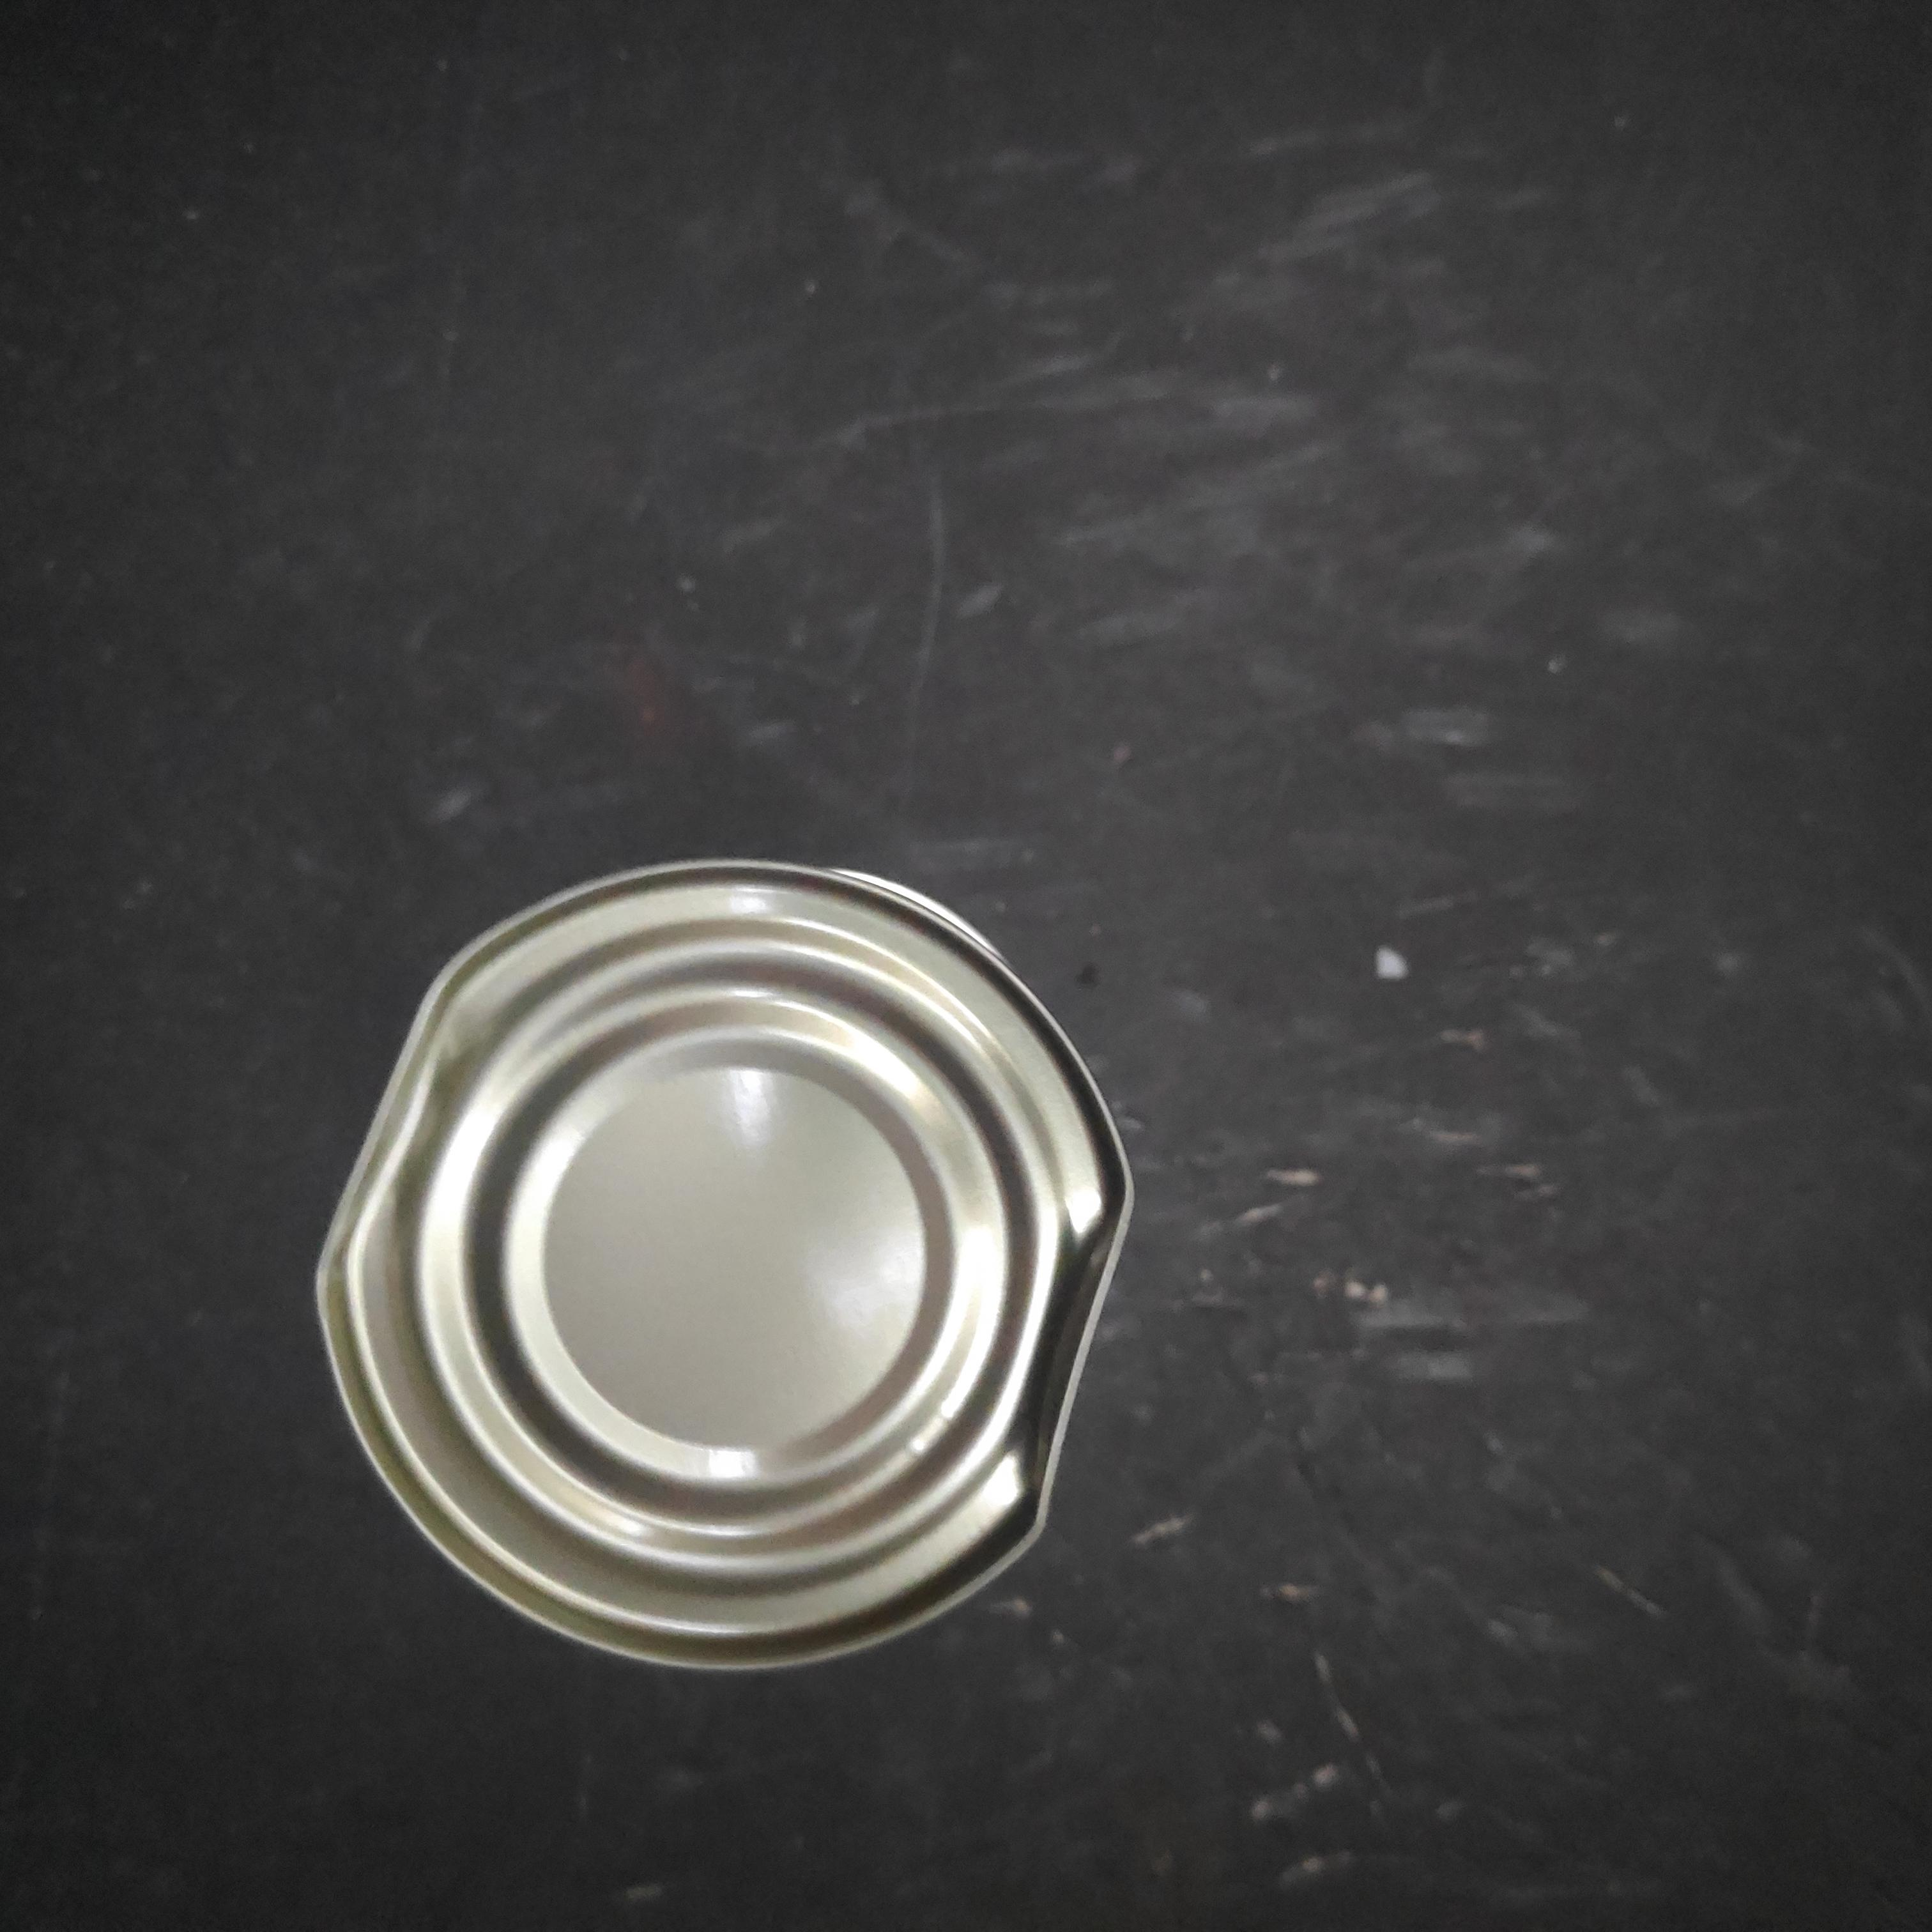Minor Defect: (775, 230, 1628, 1099)
